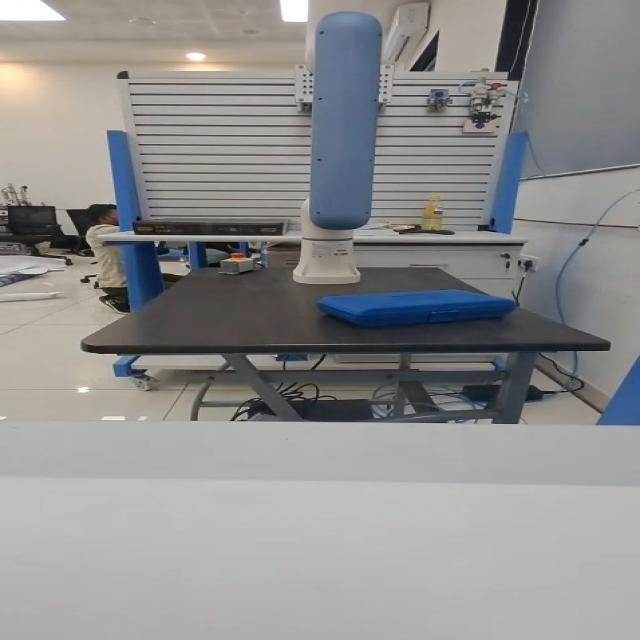top-surface: (351, 291, 482, 305)
